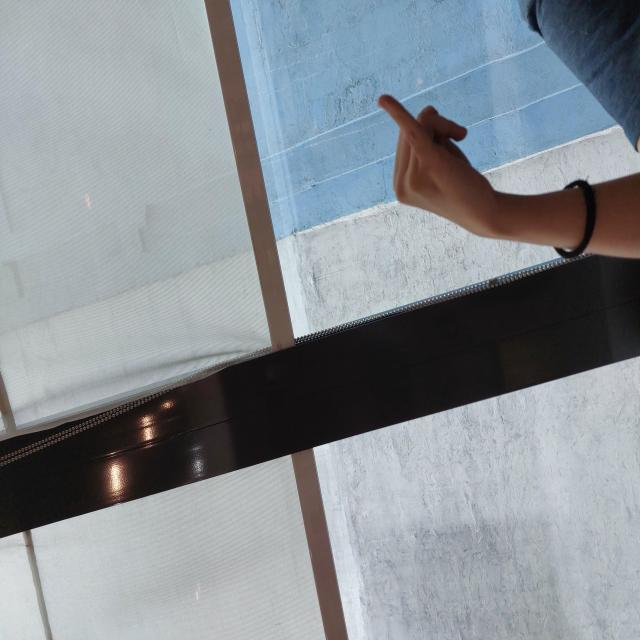J: (410, 378, 545, 495)
